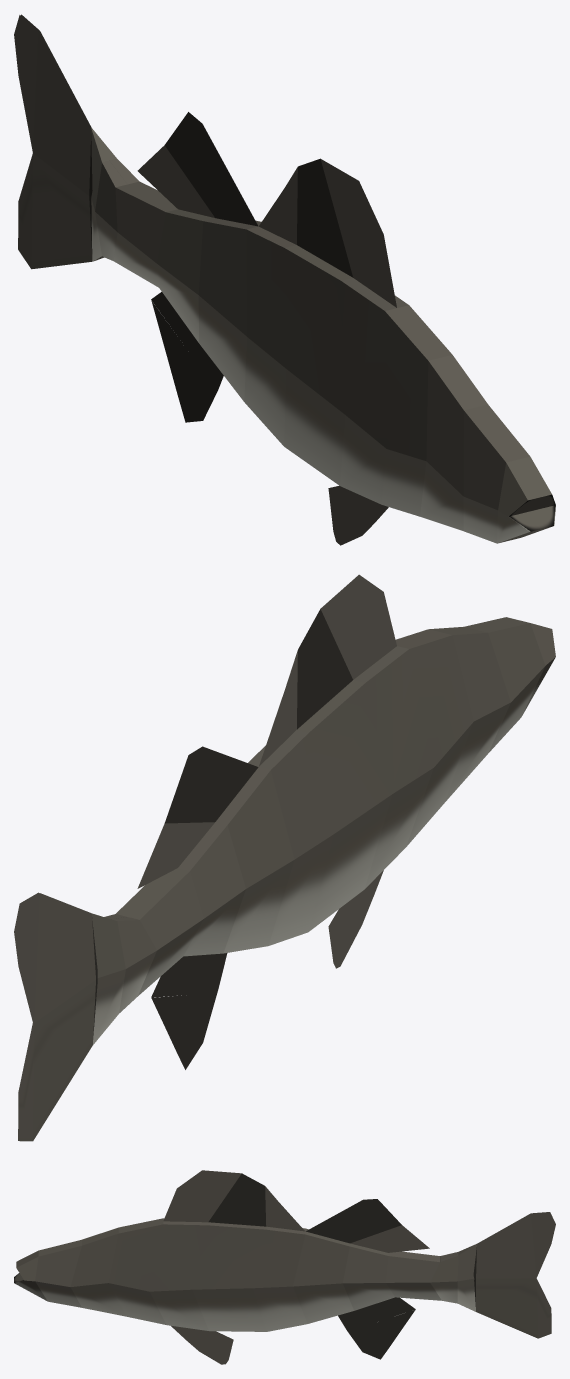
The model's file is Abborre.fbx.
3 renders of one model, top to bottom at view 1: azimuth 30°, elevation 25°; view 2: azimuth 150°, elevation 25°; view 3: azimuth 270°, elevation 25°, orthographic. The views are drawn at different scales.
Visible parts, largest first — view 1: Cube.004; view 2: Cube.004; view 3: Cube.004.
Boxes of the visible parts, <box> form: Cube.004: <box>14,14,555,545</box>; Cube.004: <box>14,574,555,1141</box>; Cube.004: <box>14,1170,555,1364</box>.
Bounding box in the file's own units: 6.91 × 52.64 × 133.
1 material, 1 textured.
